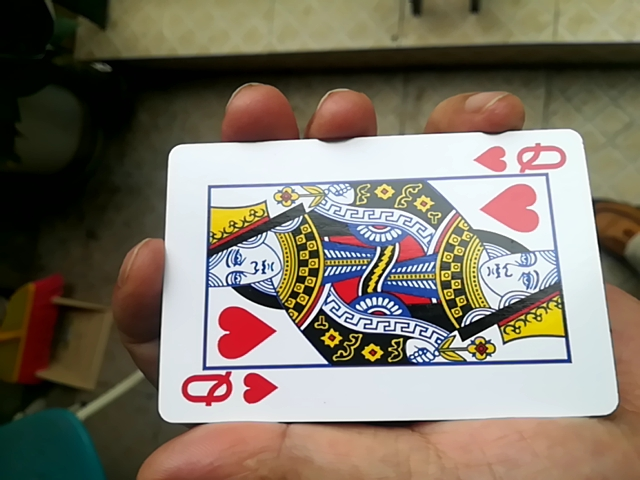hx q: (145, 126, 617, 436)
